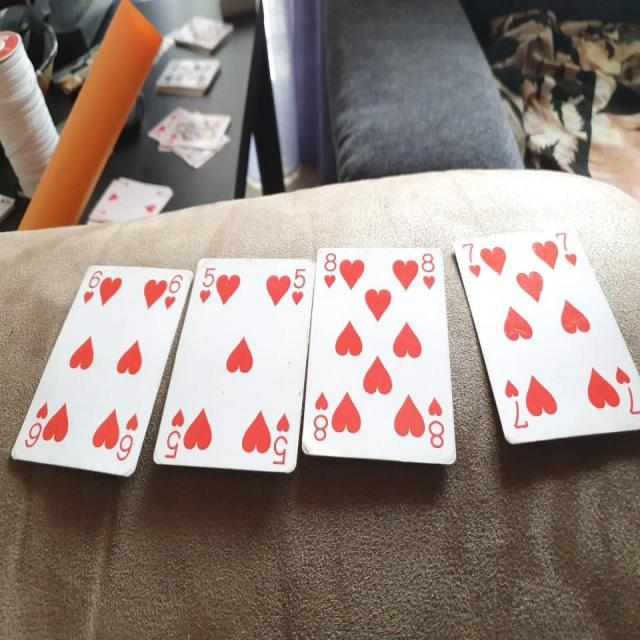5 Hearts: (156, 252, 316, 490)
6 Hearts: (12, 247, 194, 476)
7 Hearts: (457, 224, 637, 451)
8 Hearts: (302, 242, 462, 474)
